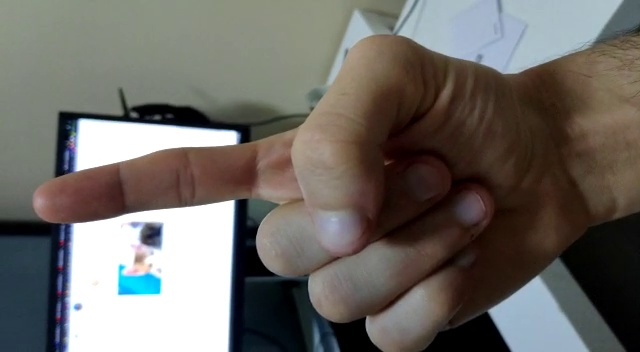One: (23, 39, 575, 351)
